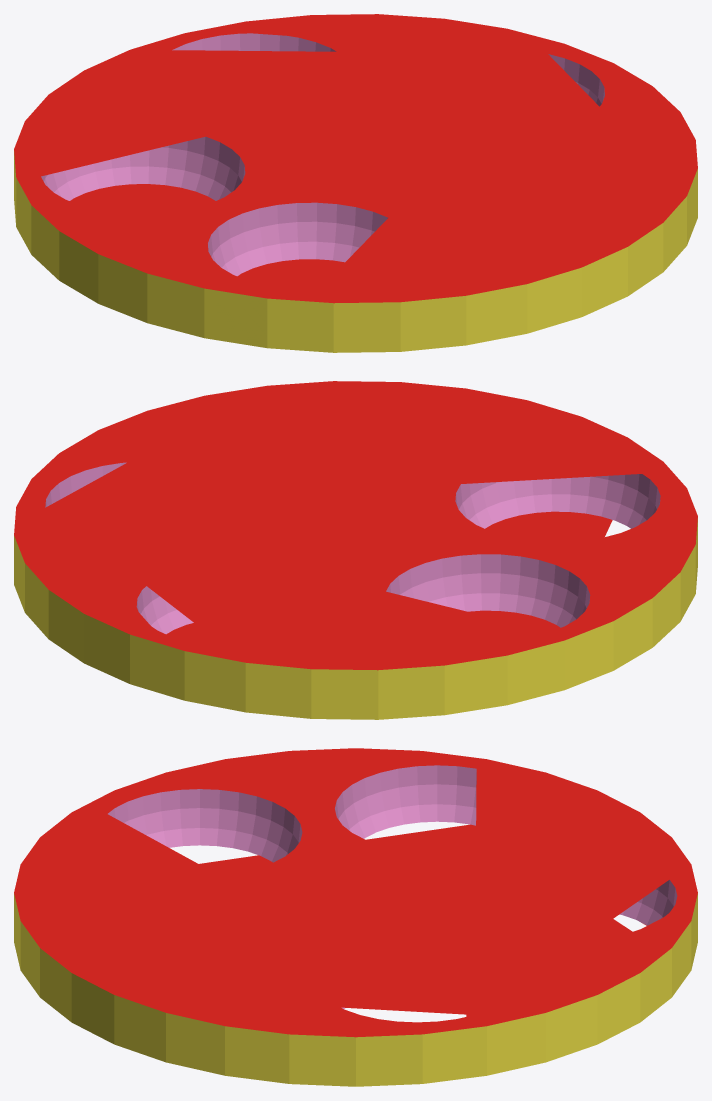
The model's file is fulholes.fbx.
3 views of the same model, one above another, from view 1: azimuth 30°, elevation 25°; view 2: azimuth 150°, elevation 25°; view 3: azimuth 270°, elevation 25° (orthographic).
Parts seen in each view (by area): view 1: 柱体; view 2: 柱体; view 3: 柱体.
Boxes of the visible parts, <box> form: 柱体: <box>14,14,697,352</box>; 柱体: <box>14,381,697,719</box>; 柱体: <box>14,748,697,1086</box>.
Bounding box in the file's own units: 2500 × 200 × 2500.
